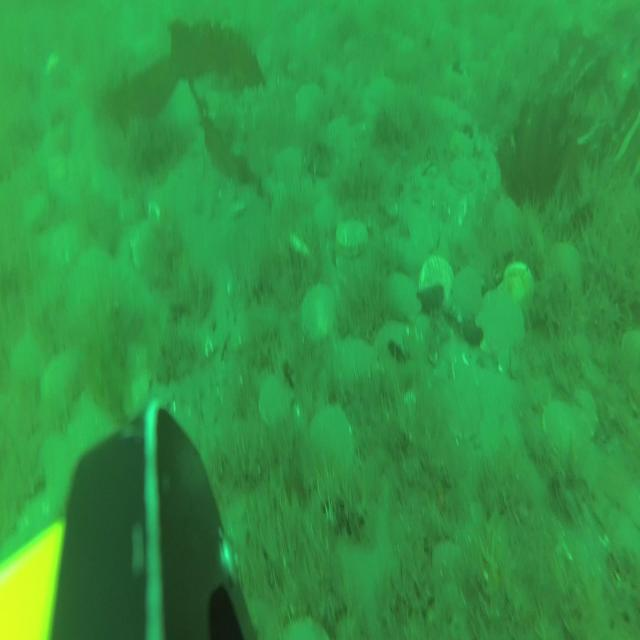scallop: (312, 400, 356, 474), (542, 398, 584, 468), (482, 291, 524, 360), (444, 377, 486, 442), (549, 238, 587, 308), (336, 336, 376, 398), (68, 400, 110, 458), (302, 284, 342, 340), (448, 262, 484, 320), (40, 357, 76, 412), (388, 270, 422, 328), (132, 226, 168, 279), (418, 255, 453, 308), (407, 207, 443, 255), (260, 375, 294, 425), (13, 336, 47, 385), (295, 84, 327, 135), (492, 197, 524, 240), (336, 218, 368, 256), (448, 154, 478, 194), (276, 149, 304, 189), (450, 132, 473, 162)
